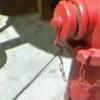Hydrant: (45, 2, 100, 100)
